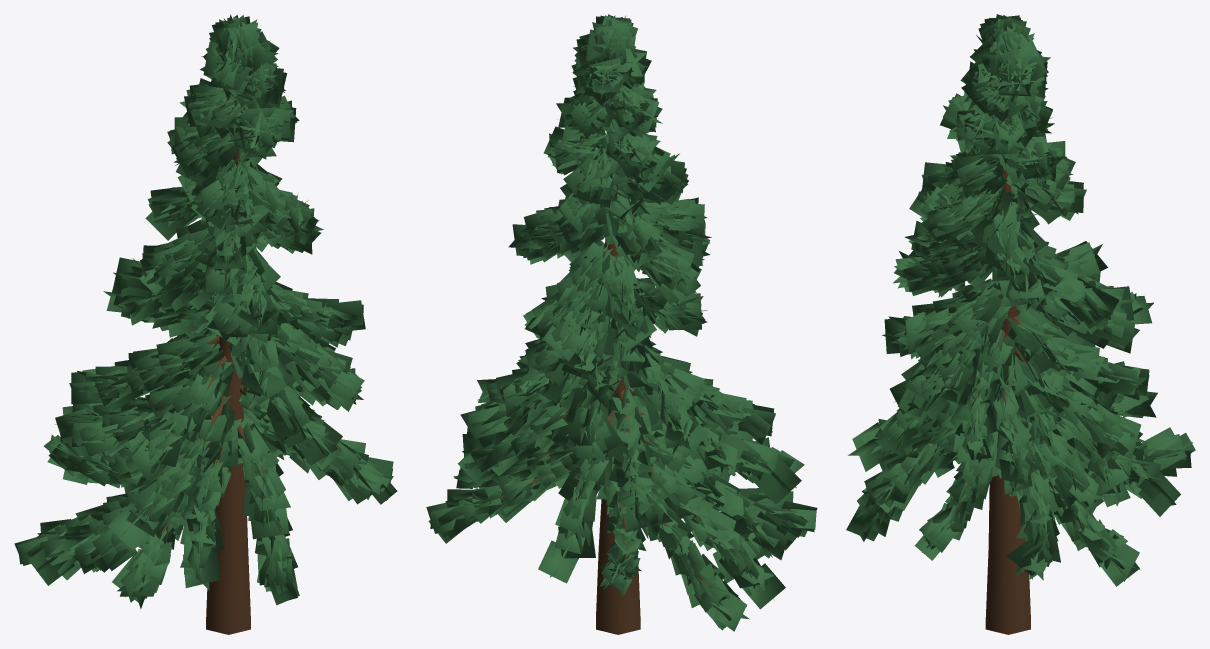
Rendered from ez_pine_tall_pbr.glb.
The picture shows the model from 3 angles, left to right: view 1: azimuth 30°, elevation 25°; view 2: azimuth 150°, elevation 25°; view 3: azimuth 270°, elevation 25°; orthographic projection.
Visible parts, largest first — view 1: Tree; view 2: Tree; view 3: Tree.
Boxes of the visible parts, bbox=[...] form: Tree: bbox=[14, 14, 397, 634]; Tree: bbox=[426, 14, 817, 634]; Tree: bbox=[846, 14, 1195, 634].
Size of the model in its own units: 18.62 by 32.87 by 17.05.
